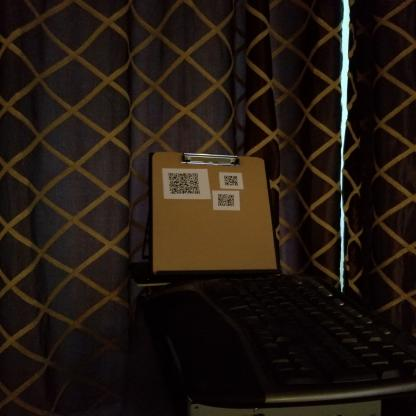qr: (166, 170, 204, 196), (218, 193, 237, 205), (221, 174, 239, 186)
